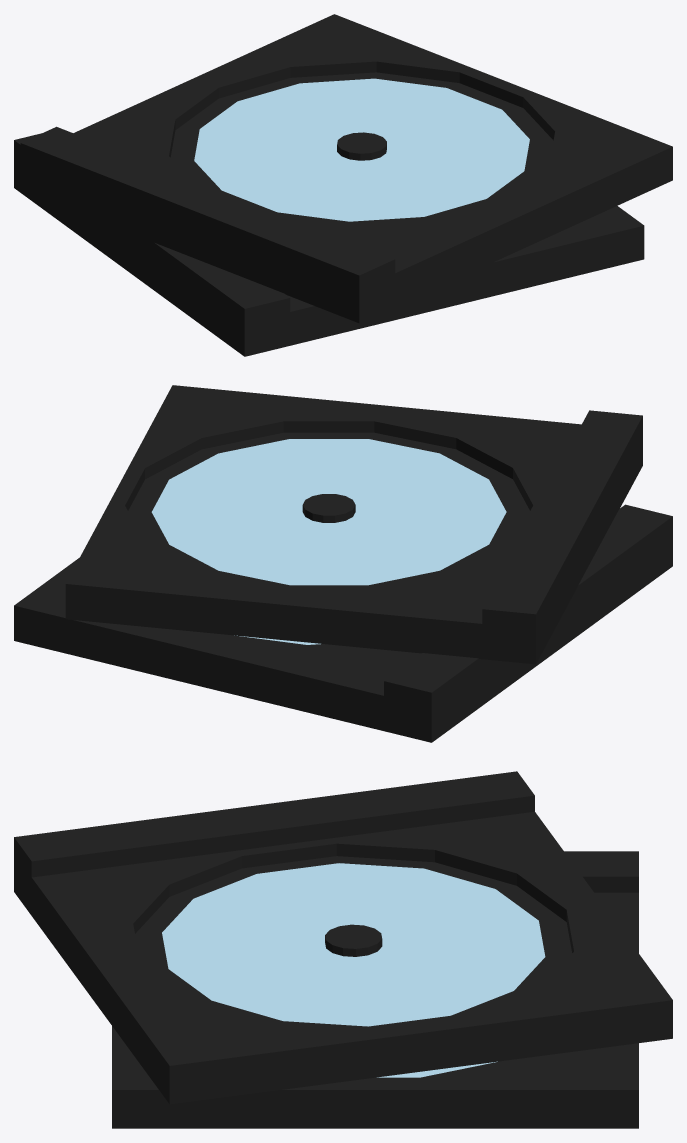
File: CDsGroup.fbx
3 views of the same model, one above another, from view 1: azimuth 30°, elevation 25°; view 2: azimuth 150°, elevation 25°; view 3: azimuth 270°, elevation 25° (orthographic). The views are drawn at different scales.
Visible parts, largest first — view 1: CDs_Group1.001; view 2: CDs_Group1.001; view 3: CDs_Group1.001.
Boxes of the visible parts, bbox=[...] form: CDs_Group1.001: bbox=[14, 14, 672, 356]; CDs_Group1.001: bbox=[14, 385, 672, 742]; CDs_Group1.001: bbox=[14, 771, 672, 1128].
Size of the model in its own units: 842 by 153 by 842.
1 material, 1 textured.
